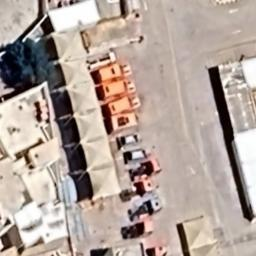sedan: (120, 146, 150, 165), (114, 132, 146, 148)
truck: (98, 78, 140, 102), (126, 157, 164, 182), (117, 178, 155, 202), (105, 93, 144, 116), (127, 197, 164, 221), (94, 62, 134, 82), (118, 221, 158, 239)
